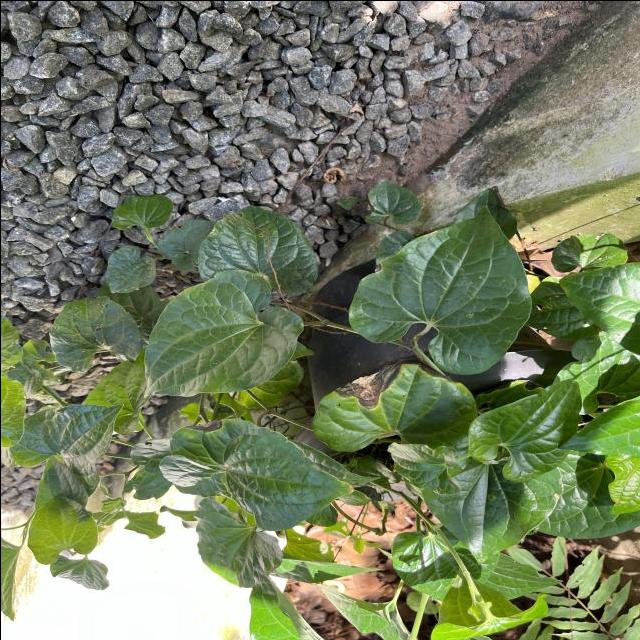Piper longum: (345, 200, 533, 376), (140, 267, 305, 400), (465, 376, 583, 484)
